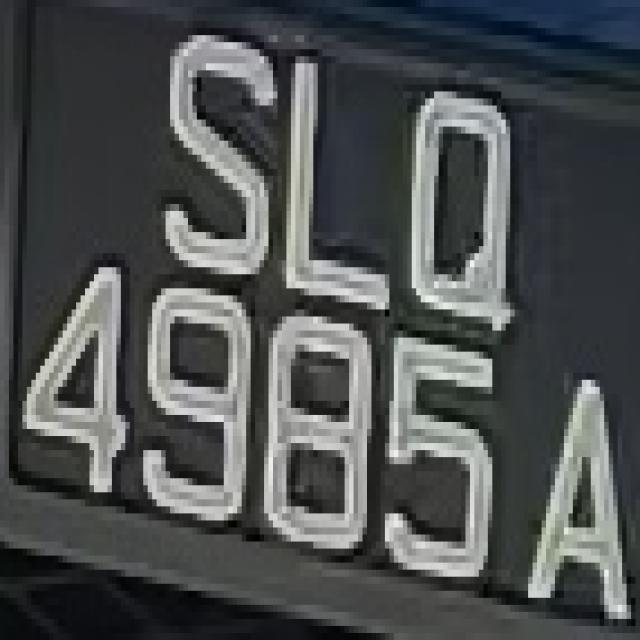4: (27, 232, 134, 506)
5: (389, 309, 502, 584)
8: (260, 281, 380, 584)
9: (121, 260, 264, 542)
A: (519, 330, 640, 619)
L: (282, 28, 380, 317)
Q: (385, 70, 524, 338)
S: (156, 7, 278, 309)
